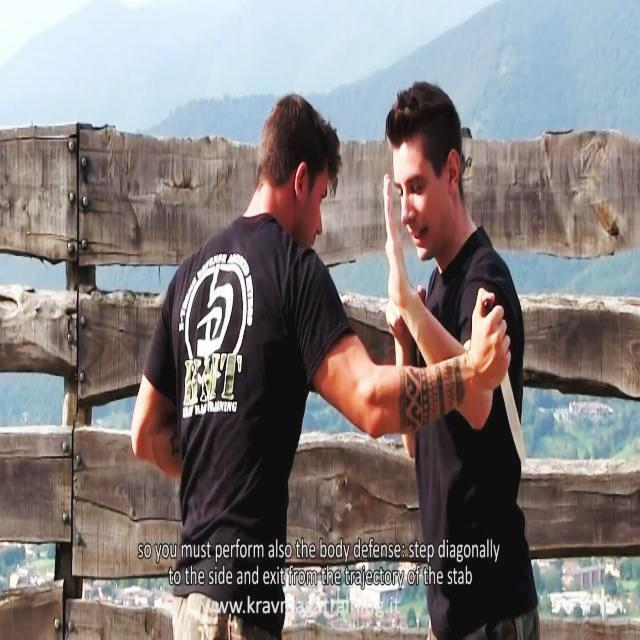Knife: (479, 298, 533, 468)
